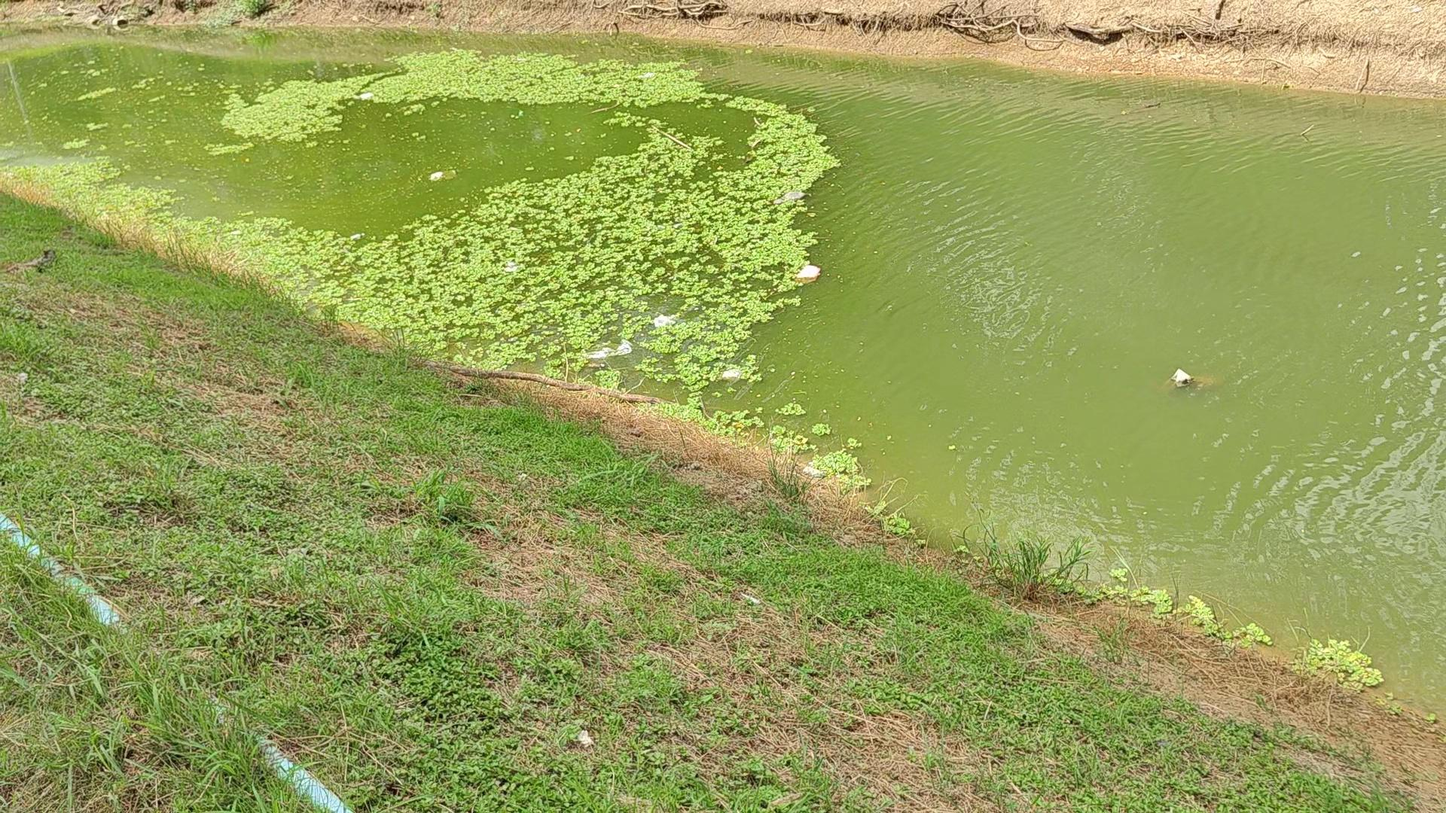trash: (796, 263, 820, 282), (1171, 368, 1193, 386), (775, 190, 804, 203), (611, 340, 632, 355), (719, 367, 742, 380), (653, 315, 676, 327), (429, 171, 449, 181), (505, 260, 517, 272), (358, 92, 373, 99), (349, 233, 364, 240), (642, 72, 654, 78)
